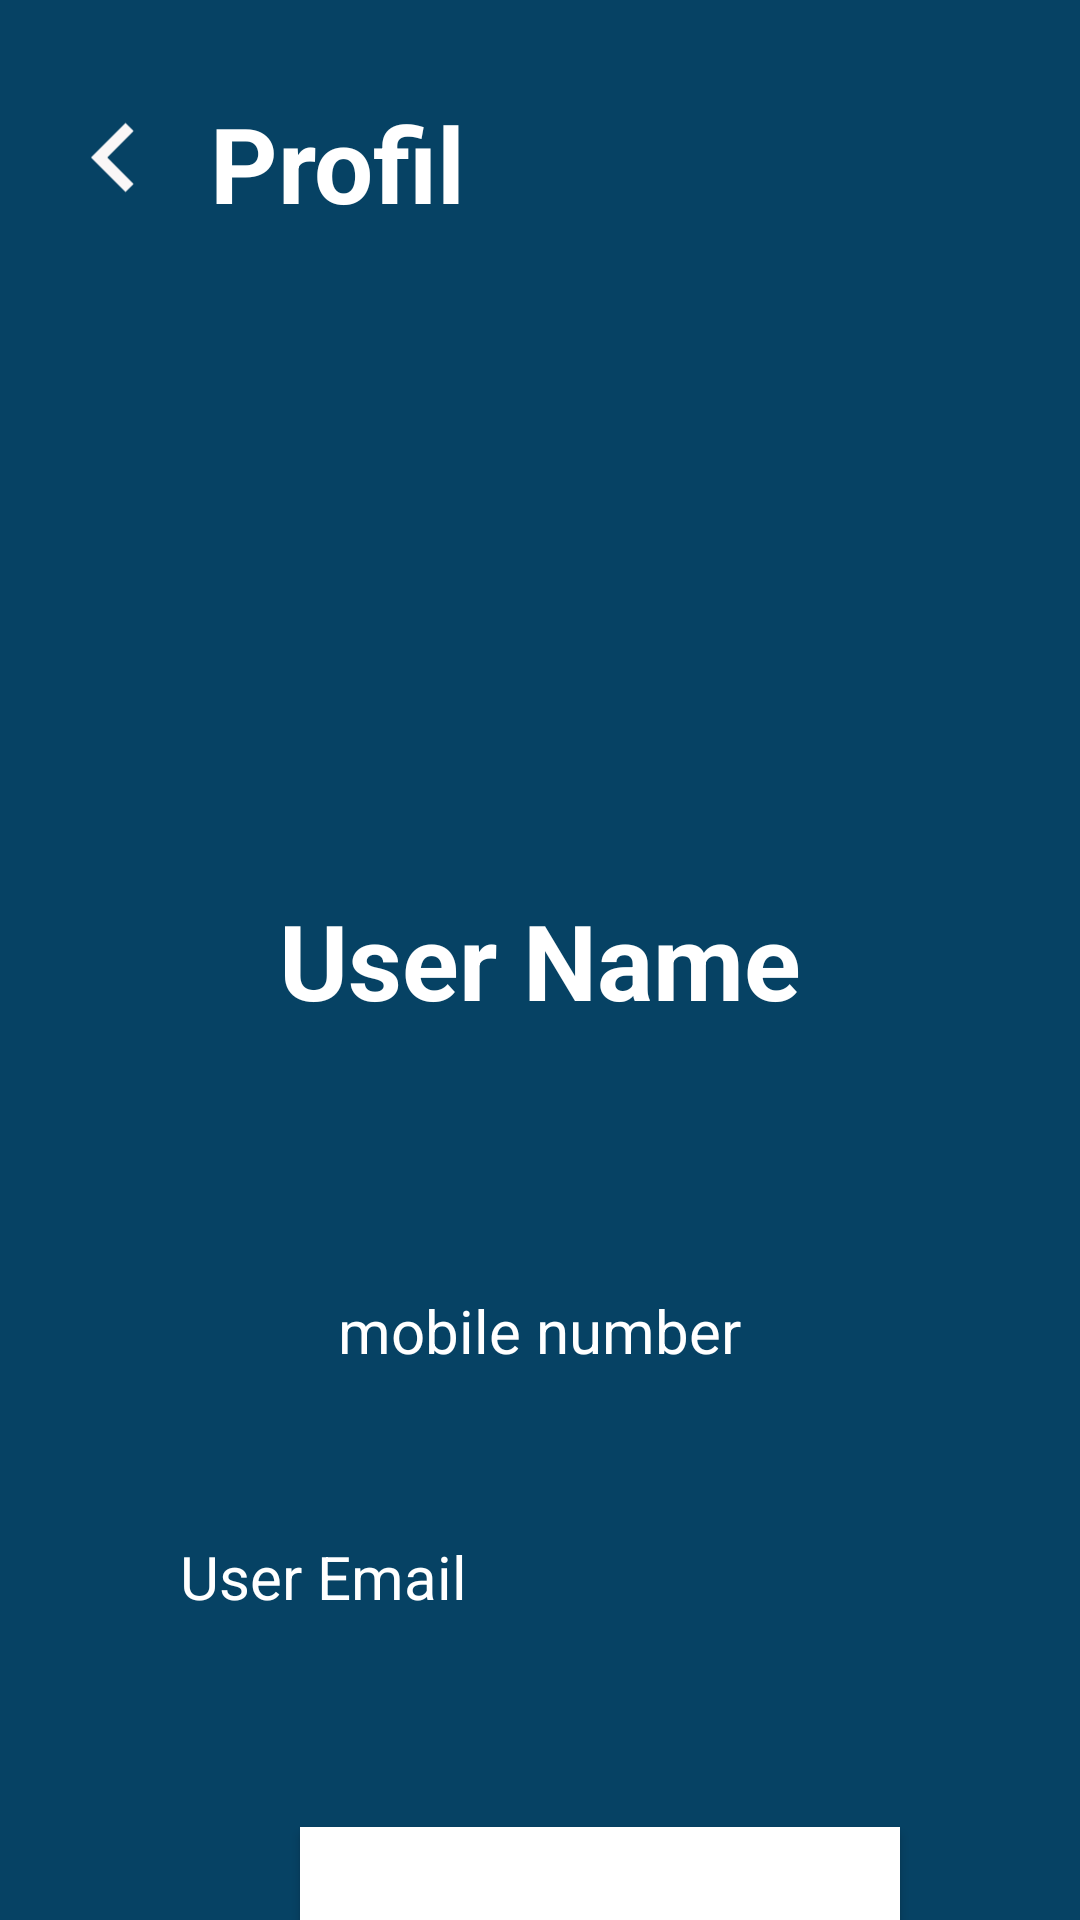

Locate icon controls on the screen. Image size 1080*1920, boxes as {"x1": x1, "y1": y1, "x2": x2, "y2": y2}.
navigate before: {"x1": 91, "y1": 122, "x2": 134, "y2": 193}
